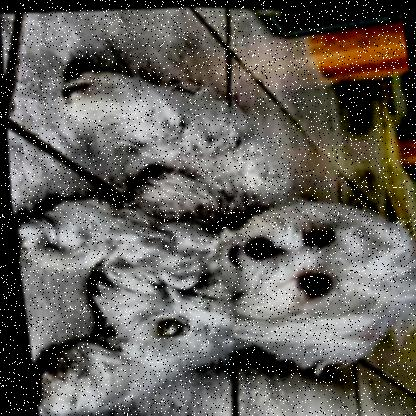dog: (196, 181, 415, 385)
